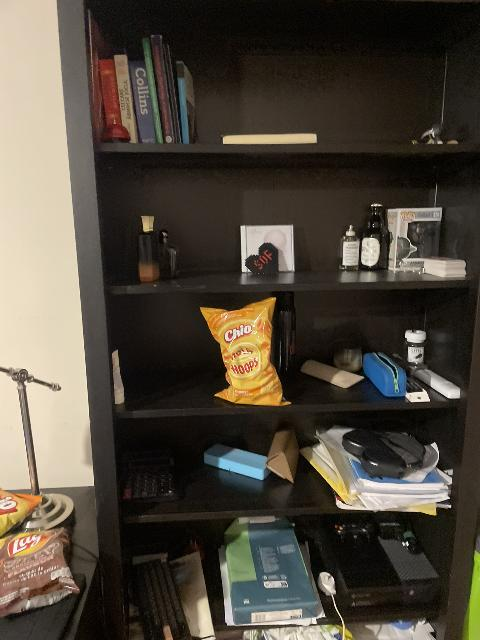Chio Cascaval 125g: (0, 480, 43, 536)
Chio Hula Hoops Cheese 70g: (200, 300, 289, 407)
Lays Beef Grilled Ribs 125g: (1, 525, 80, 619)
